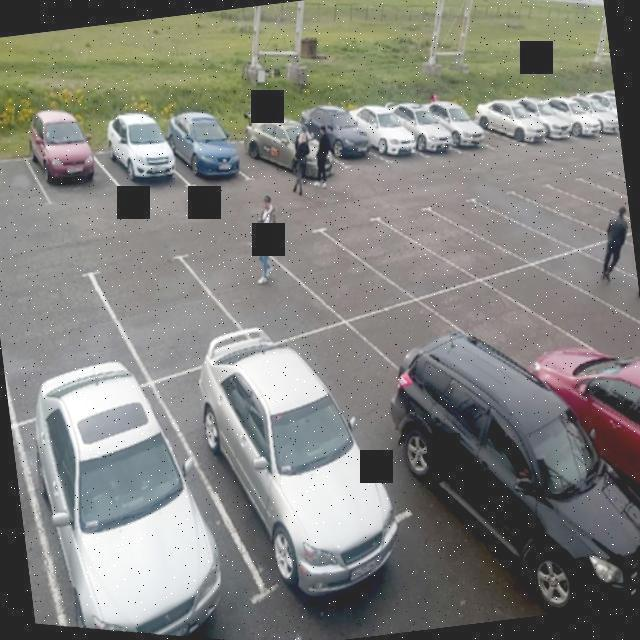car: (138, 322, 422, 624), (4, 346, 289, 640), (264, 317, 492, 558), (352, 278, 556, 472), (424, 269, 576, 406), (10, 120, 134, 223), (146, 101, 258, 214), (80, 111, 194, 212), (216, 121, 308, 211), (246, 114, 346, 192), (412, 88, 502, 170), (378, 96, 466, 170), (344, 98, 428, 172), (299, 111, 380, 179), (470, 92, 553, 158), (510, 90, 580, 155), (537, 91, 609, 151), (562, 88, 622, 156), (578, 80, 622, 154), (602, 78, 621, 148)
free: (76, 228, 255, 392), (0, 258, 162, 427), (164, 206, 336, 362), (388, 171, 574, 303), (358, 181, 522, 314), (248, 202, 400, 342), (494, 238, 640, 376), (312, 196, 464, 326), (458, 167, 608, 289), (544, 226, 640, 356), (512, 167, 634, 260), (548, 166, 632, 242), (445, 94, 524, 162), (0, 146, 52, 240), (590, 212, 640, 304), (588, 169, 630, 225), (602, 165, 628, 212)
